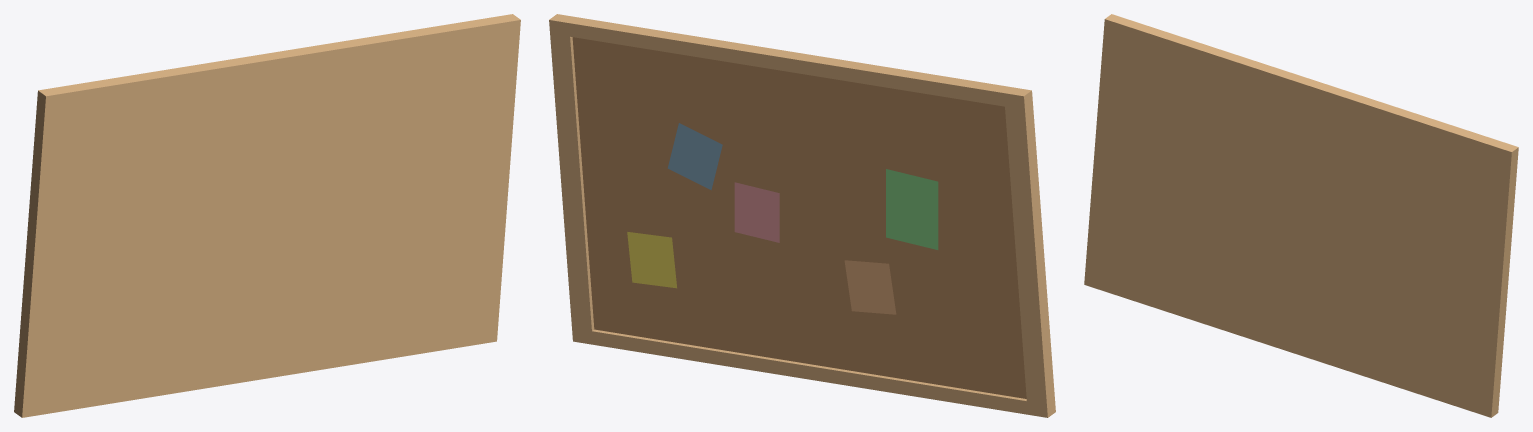
File: Pizarra.fbx
3 views of the same model, side by side, from view 1: azimuth 30°, elevation 25°; view 2: azimuth 150°, elevation 25°; view 3: azimuth 330°, elevation 25° (orthographic). The views are drawn at different scales.
Visible parts, largest first — view 1: Pizarra corcho; view 2: Pizarra corcho, Poster 3.003, Poster 3.001, Poster 3.004, Poster 3.002, Poster 3.005; view 3: Pizarra corcho.
Boxes of the visible parts, x1,y1,x2,y2 form: Pizarra corcho: [14, 14, 520, 417]; Pizarra corcho: [549, 14, 1055, 417]; Poster 3.003: [886, 169, 938, 249]; Poster 3.001: [734, 182, 779, 242]; Poster 3.004: [844, 260, 896, 314]; Poster 3.002: [667, 123, 722, 190]; Poster 3.005: [627, 232, 676, 288]; Pizarra corcho: [1084, 14, 1518, 417].
Size of the model in its own units: 13.37 by 9.1 by 0.4618.
